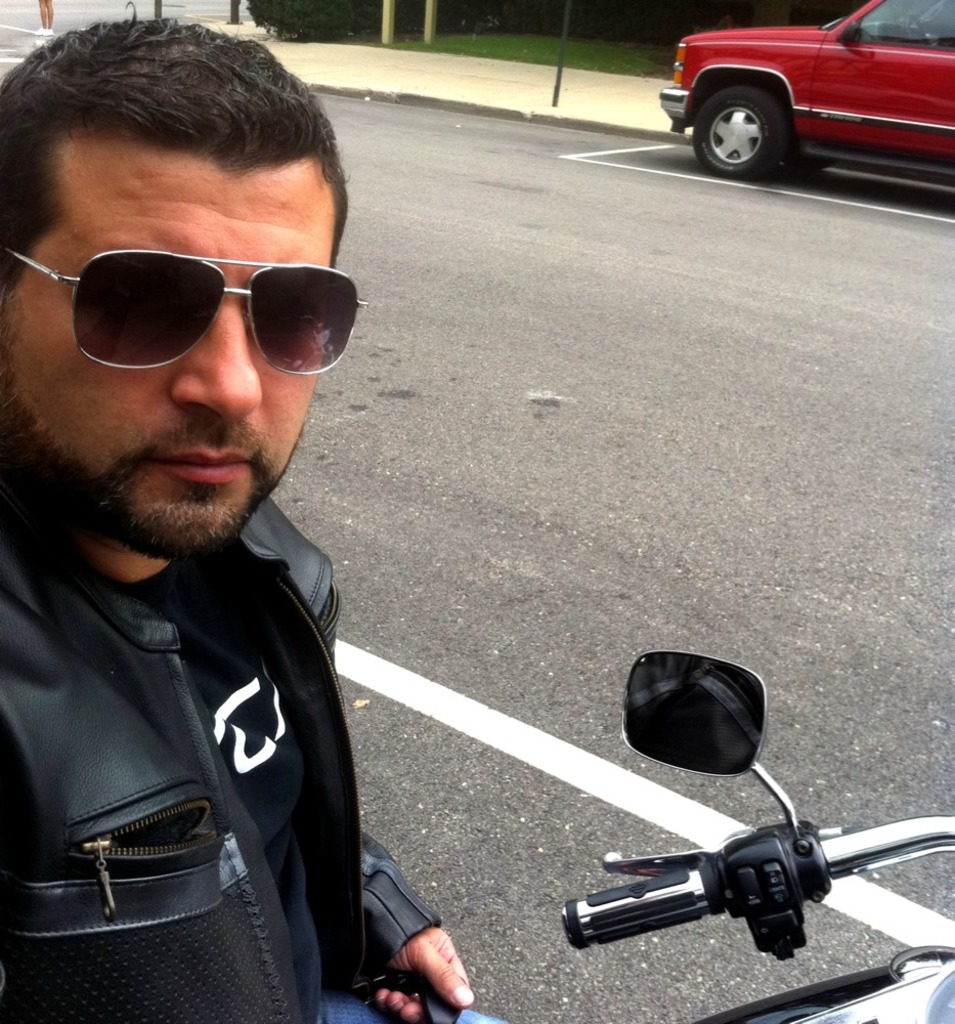Car: (645, 0, 955, 197)
